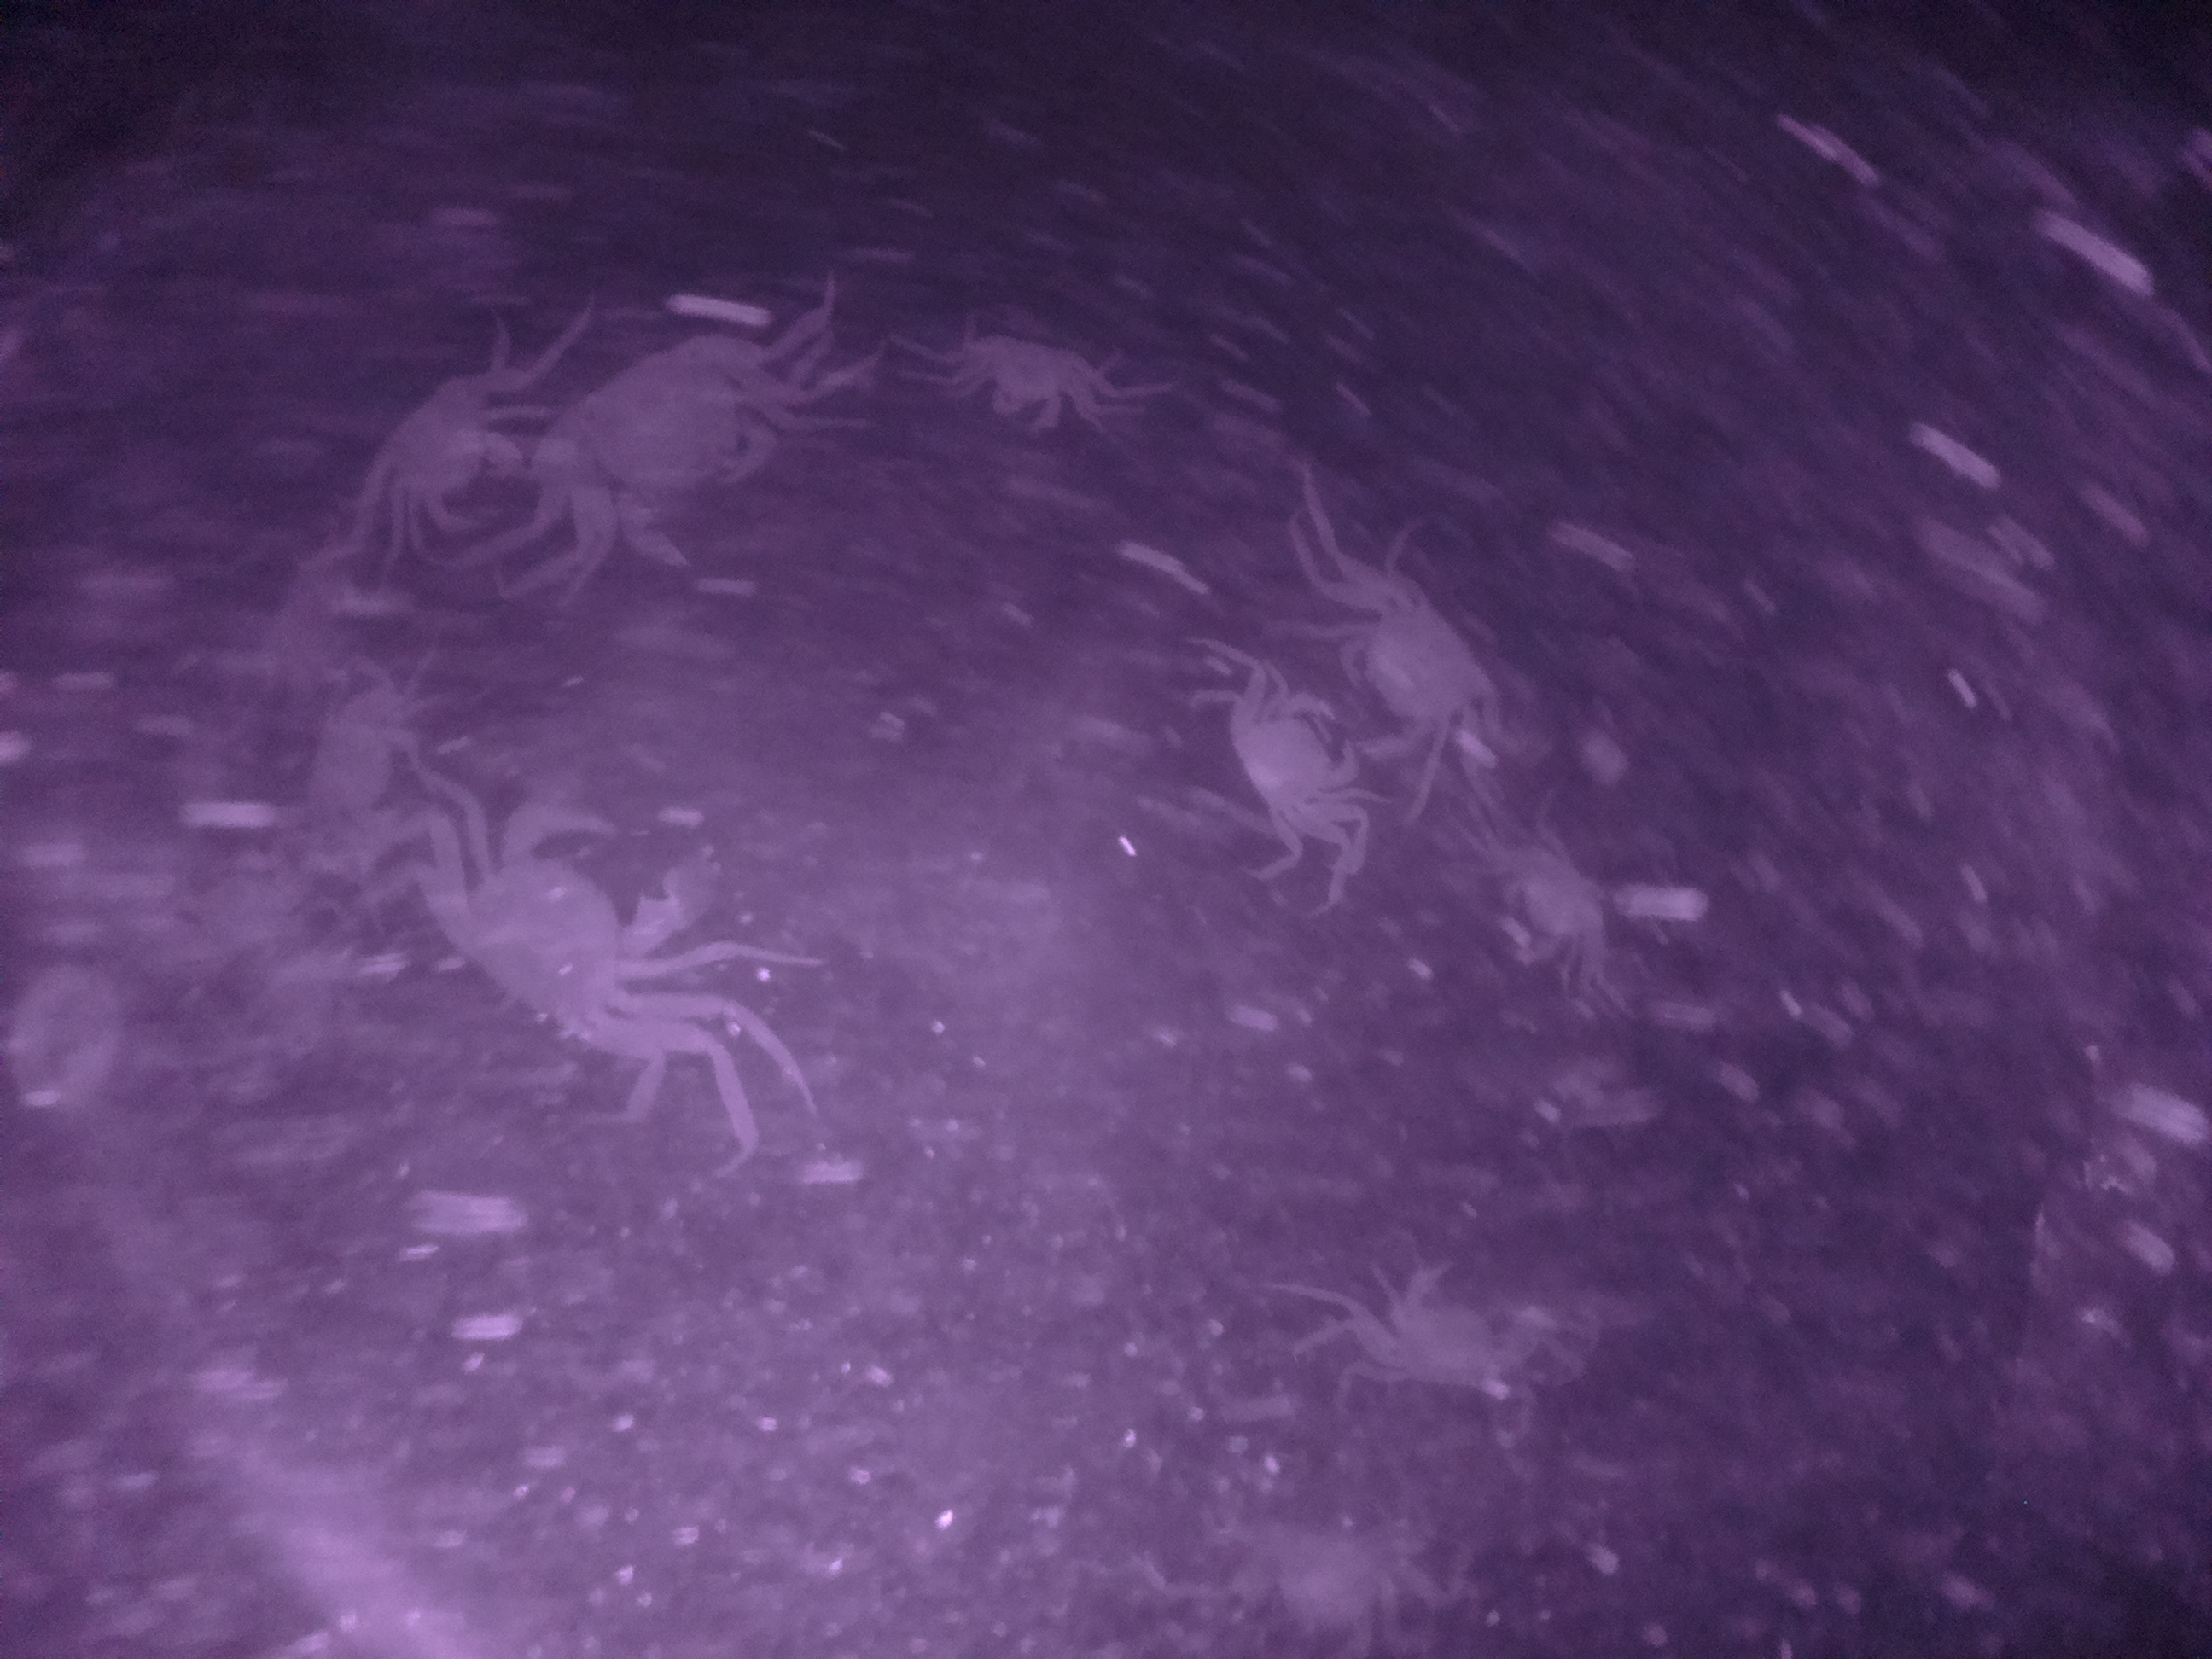Crab: (435, 749, 716, 1089), (542, 317, 787, 582), (1336, 556, 1500, 774), (362, 362, 538, 544), (1202, 688, 1362, 838), (1493, 828, 1627, 971), (958, 314, 1101, 430)
